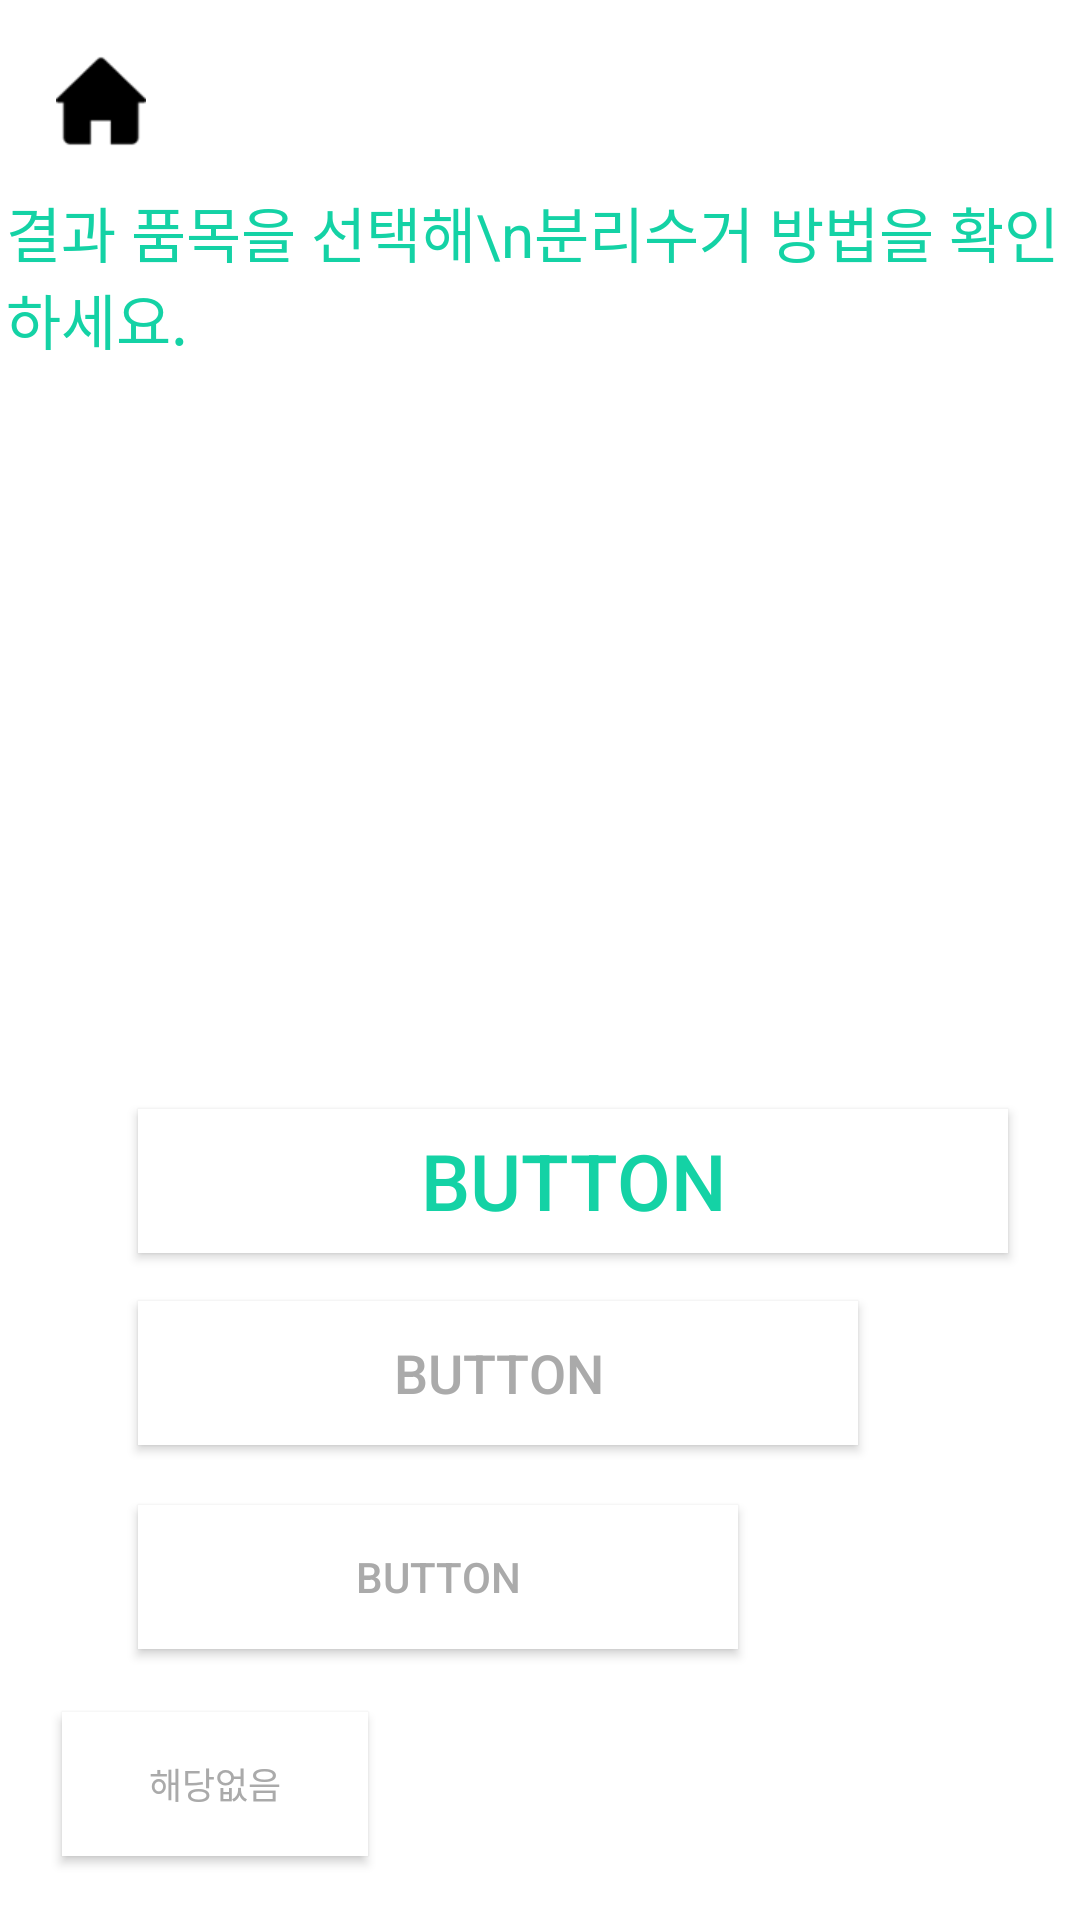

Named icons in this screenshot (1080px×1920px) and their centers, (x,y):
home: (101,101)
